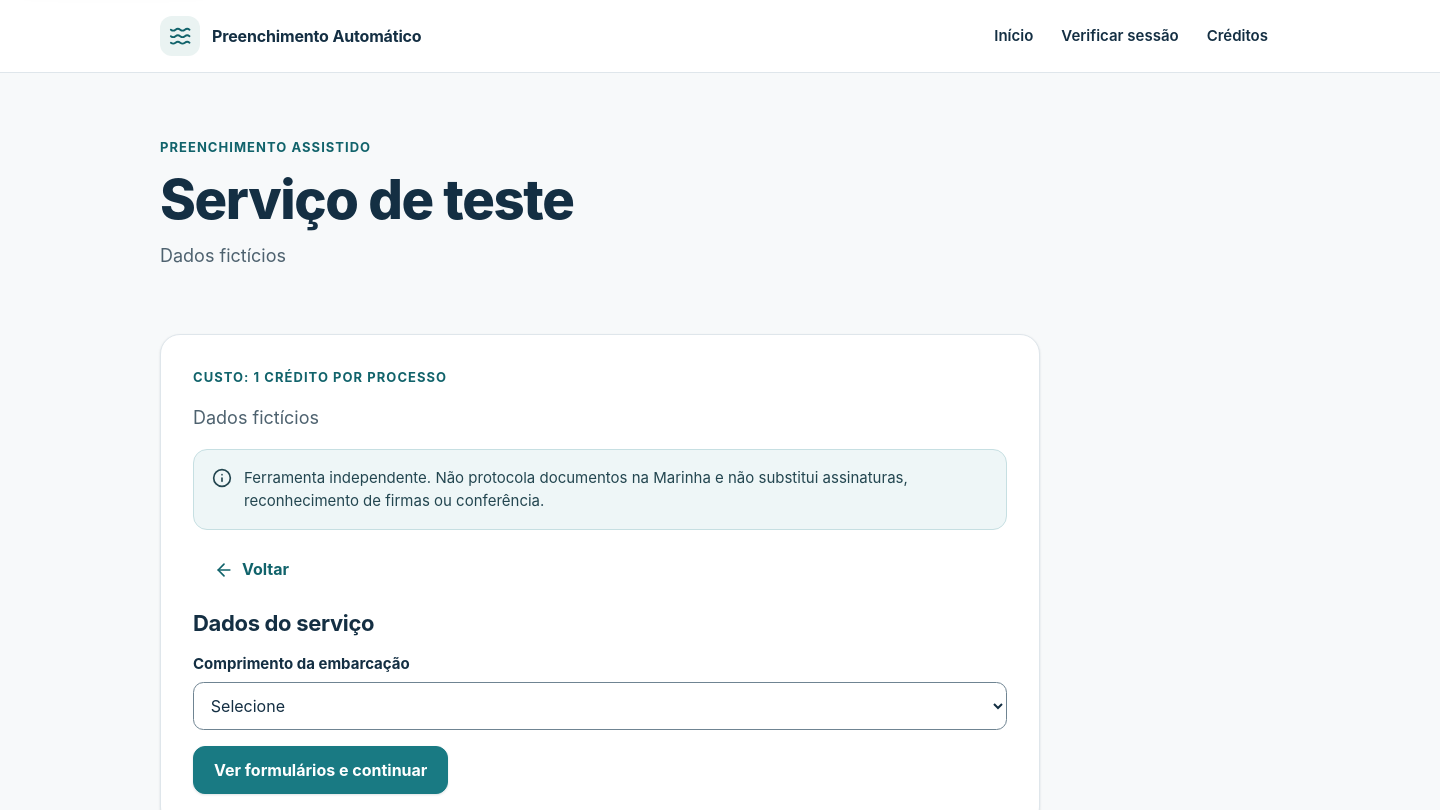
jornada real isolada da demonstração › exibe faixas normativas e respeita condições oneOf no formulário
Expected: the field labelled "Detalhe para BADE" is not shown
Select "Maior que 6 m até 12 m" in the dropdown labelled "Comprimento da embarcação" at (600,706), box [193,682,1007,730]
(page scrolled)
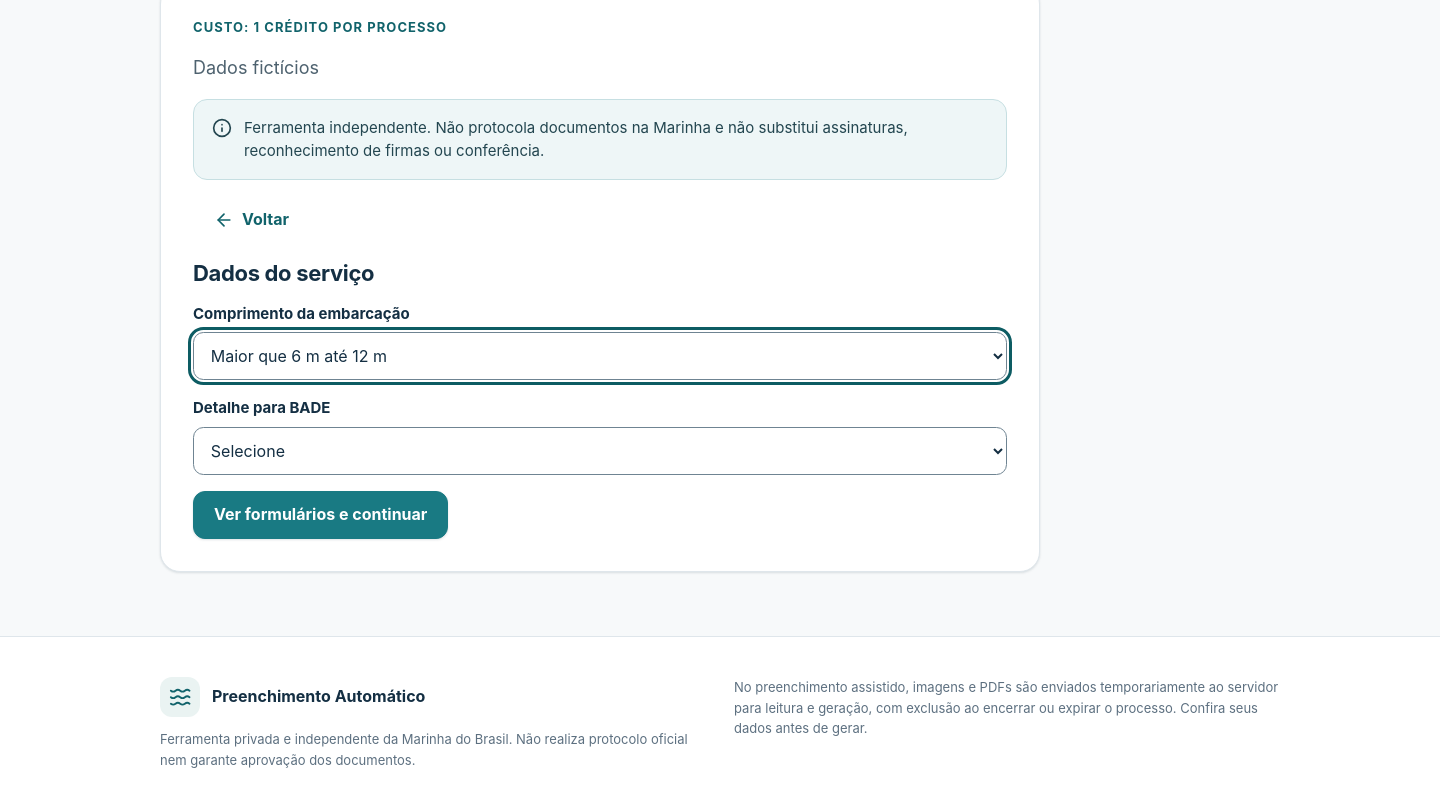
Now the dropdown labelled "Detalhe para BADE" is shown, box [193,427,1007,475]
